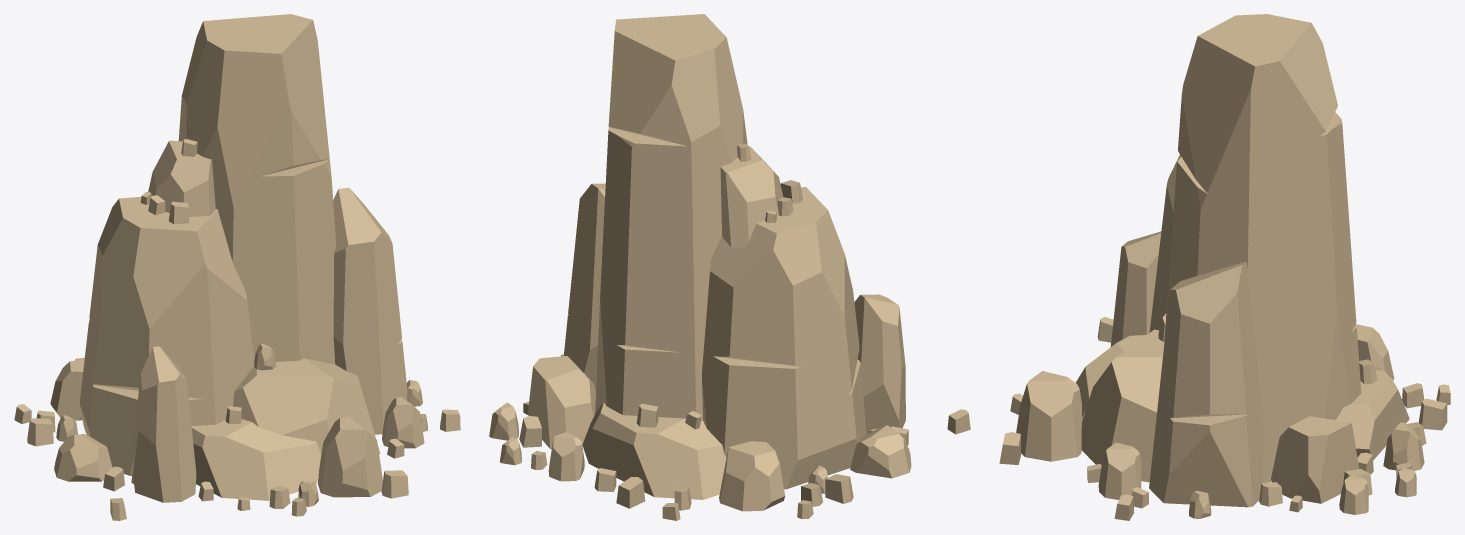
Rendered from roca4.glb.
3 views of the same model, side by side, from view 1: azimuth 30°, elevation 25°; view 2: azimuth 150°, elevation 25°; view 3: azimuth 270°, elevation 25° (orthographic). The views are drawn at different scales.
Parts seen in each view (by area): view 1: big_rock_04_Cylinder_143; view 2: big_rock_04_Cylinder_143; view 3: big_rock_04_Cylinder_143.
Part boxes in pixels (left/top/right/bottom): big_rock_04_Cylinder_143: left=14, top=14, right=460, bottom=520; big_rock_04_Cylinder_143: left=489, top=14, right=970, bottom=520; big_rock_04_Cylinder_143: left=999, top=14, right=1450, bottom=520.
Bounding box in the file's own units: 1.68 × 1.72 × 1.71.
